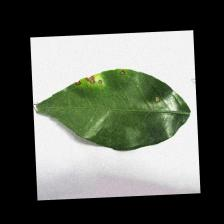canker: (66, 61, 144, 97)
